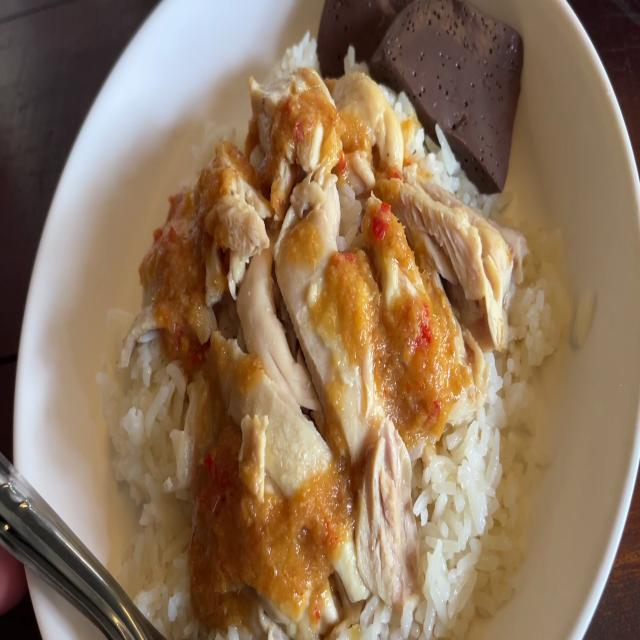boiled_chicken: (167, 65, 442, 582)
boiled_chicken_blood_jelly: (320, 0, 517, 170)
chicken_rice: (105, 0, 593, 640)
